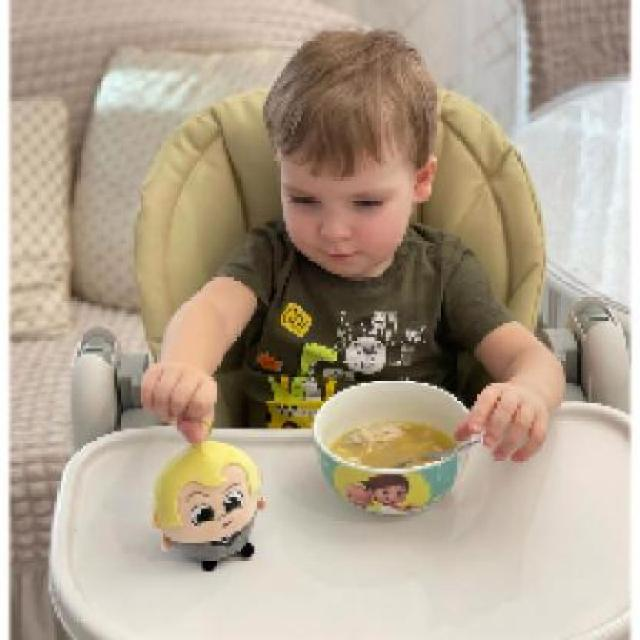child: (140, 24, 566, 462)
